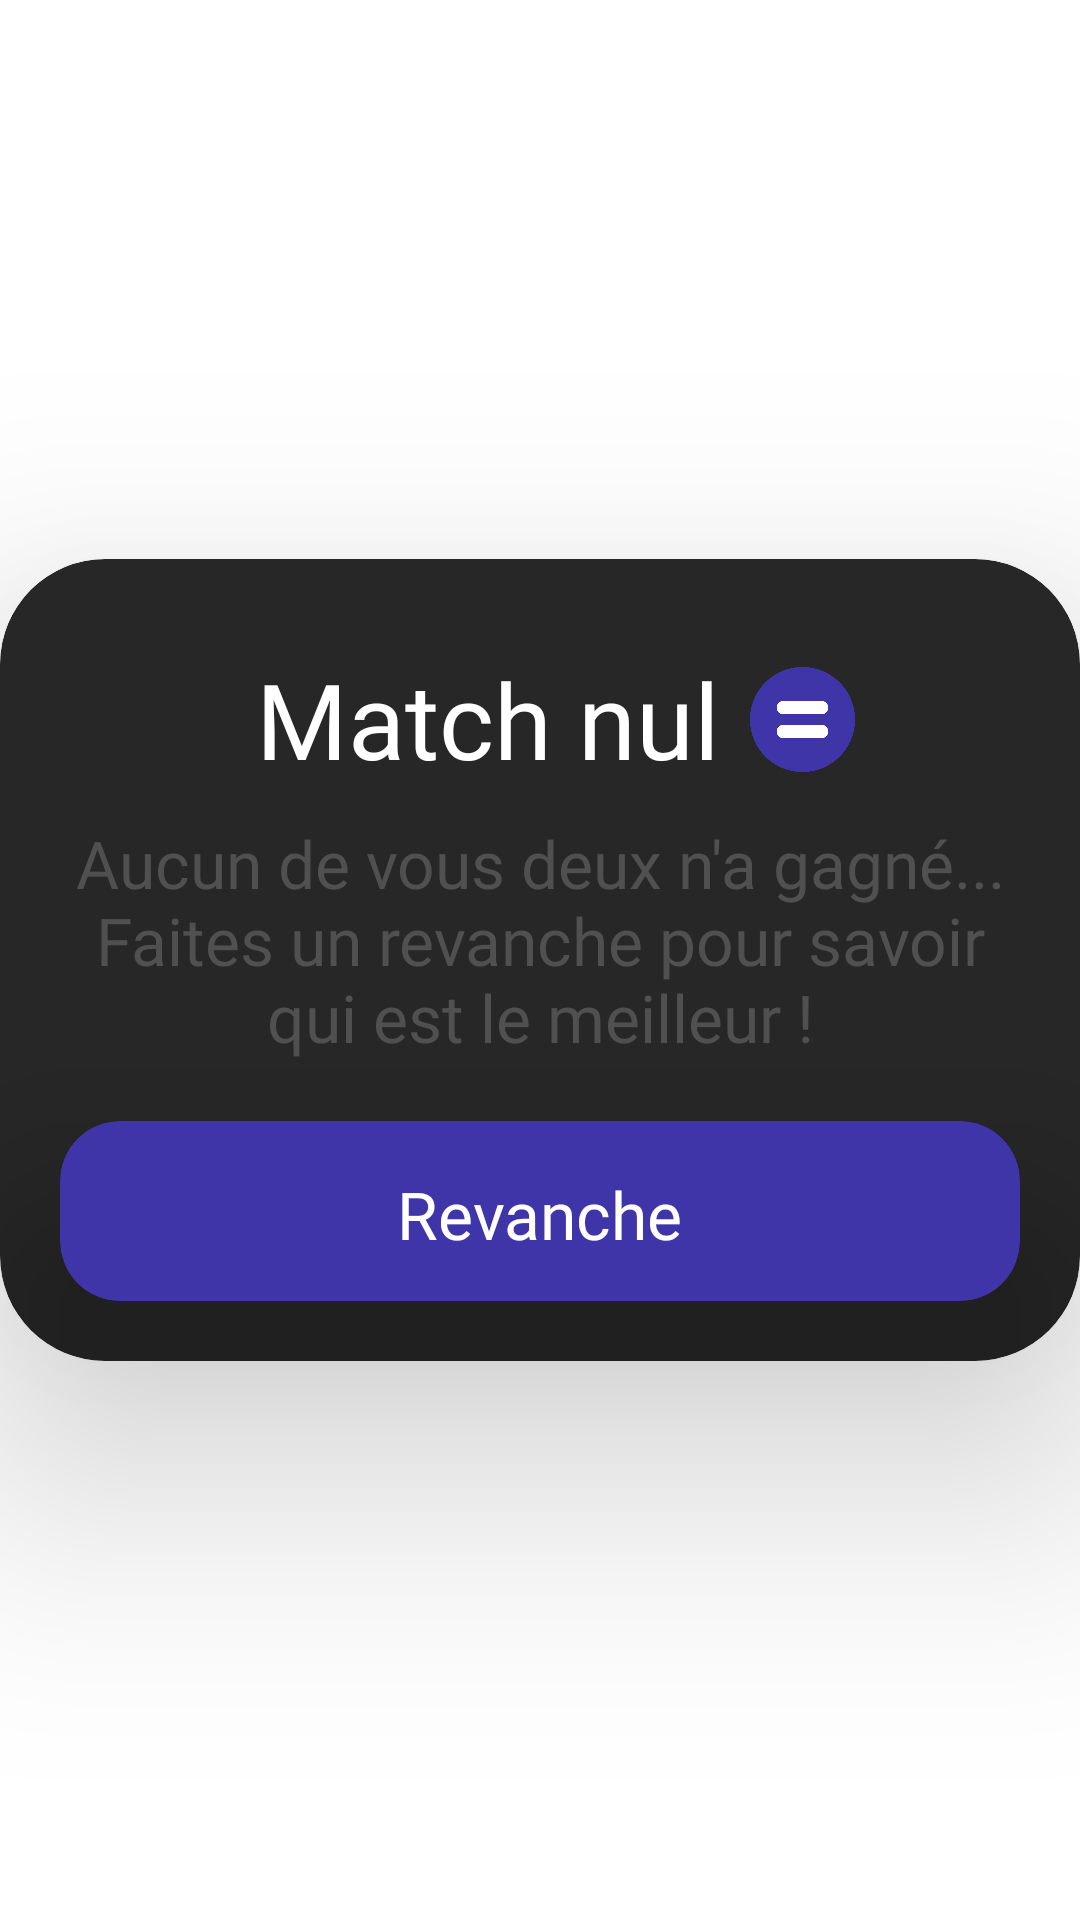

Locate icon controls on the screen. Image size 1080 × 1920, boxes as [x1,y1,x2,y2].
egalite: [750,667,855,772]
